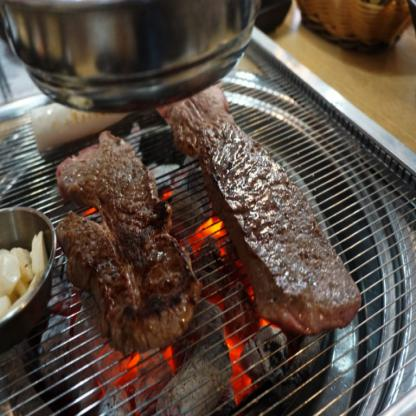Carne: (160, 98, 369, 322), (50, 130, 194, 363)
